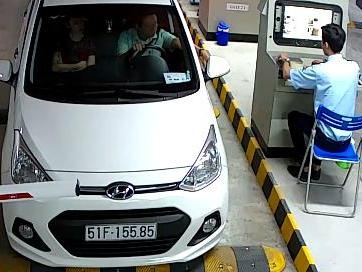car: (86, 223, 159, 240)
